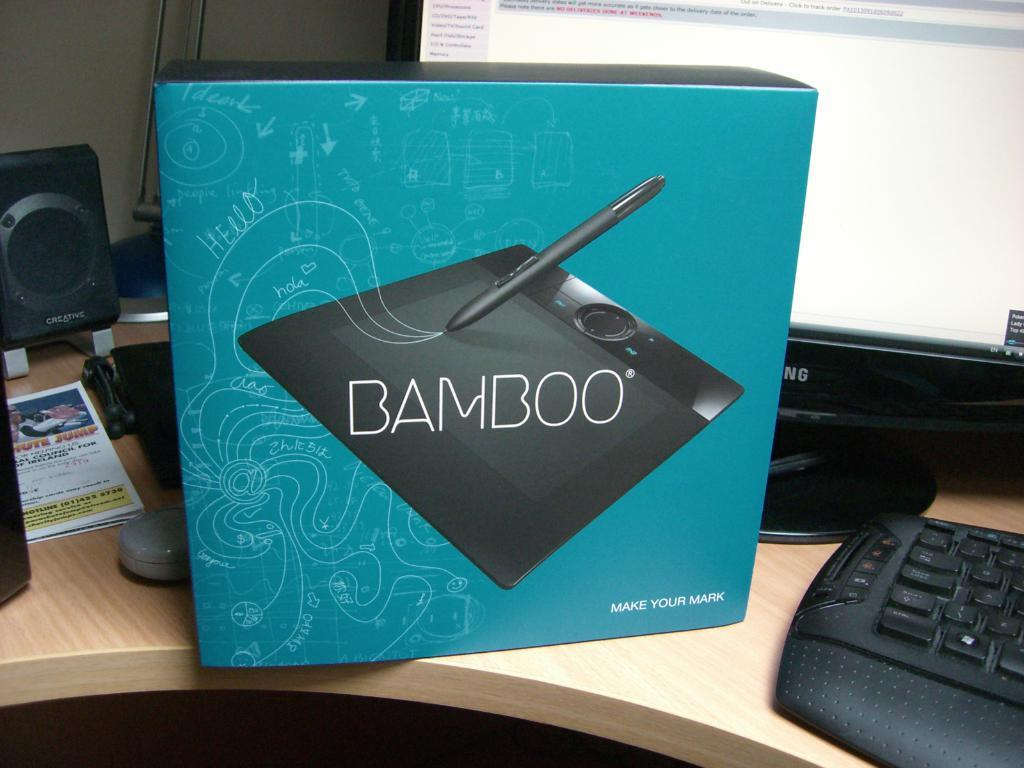Computer-keyboard: (771, 511, 1023, 767)
